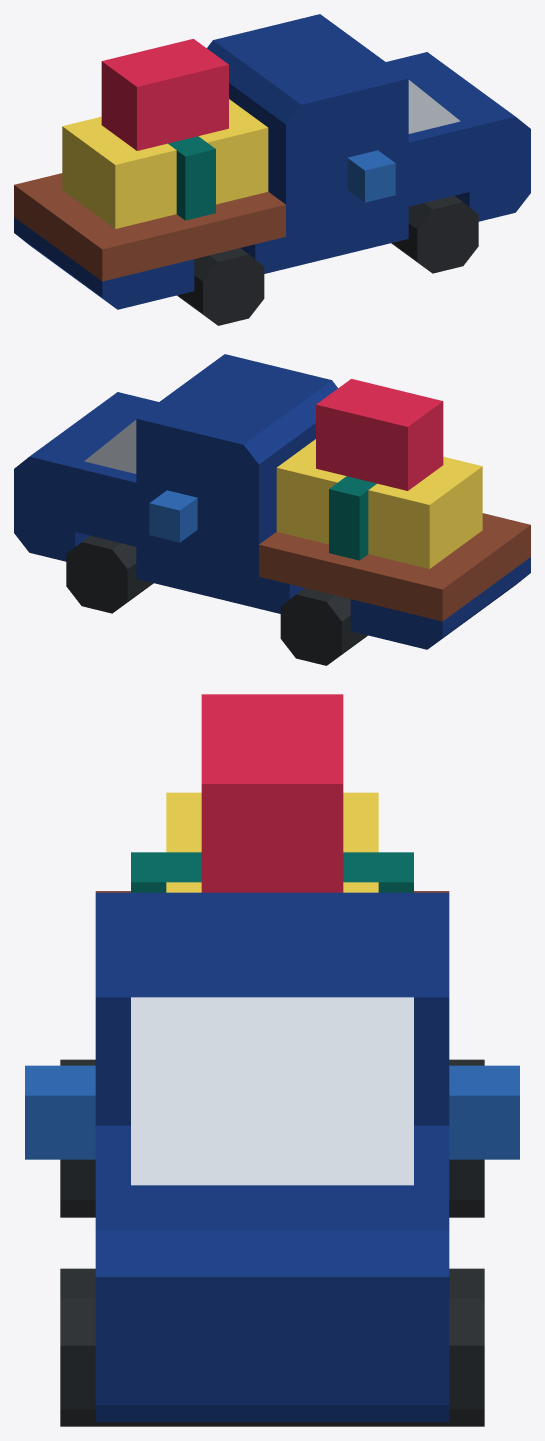
The model's file is truck.dae.
3 views of the same model, one above another, from view 1: azimuth 30°, elevation 25°; view 2: azimuth 150°, elevation 25°; view 3: azimuth 270°, elevation 25° (orthographic). The views are drawn at different scales.
Visible parts, largest first — view 1: generated; view 2: generated; view 3: generated.
Boxes of the visible parts, <box> form: generated: <box>14,14,530,325</box>; generated: <box>14,354,530,665</box>; generated: <box>25,694,519,1426</box>.
Bounding box in the file's own units: 14 × 7 × 7.
